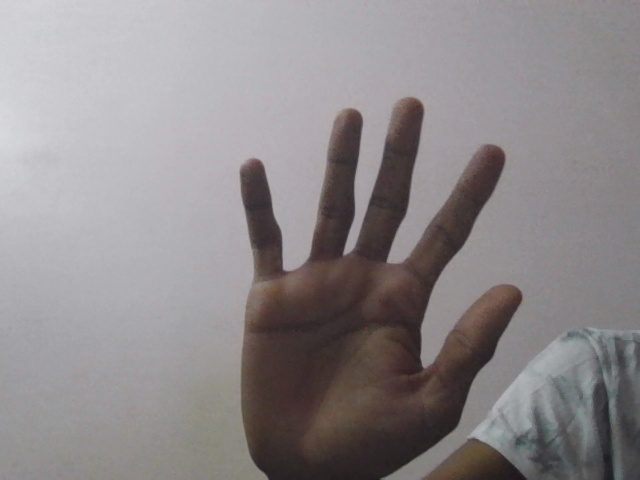hello: (223, 93, 525, 477)
